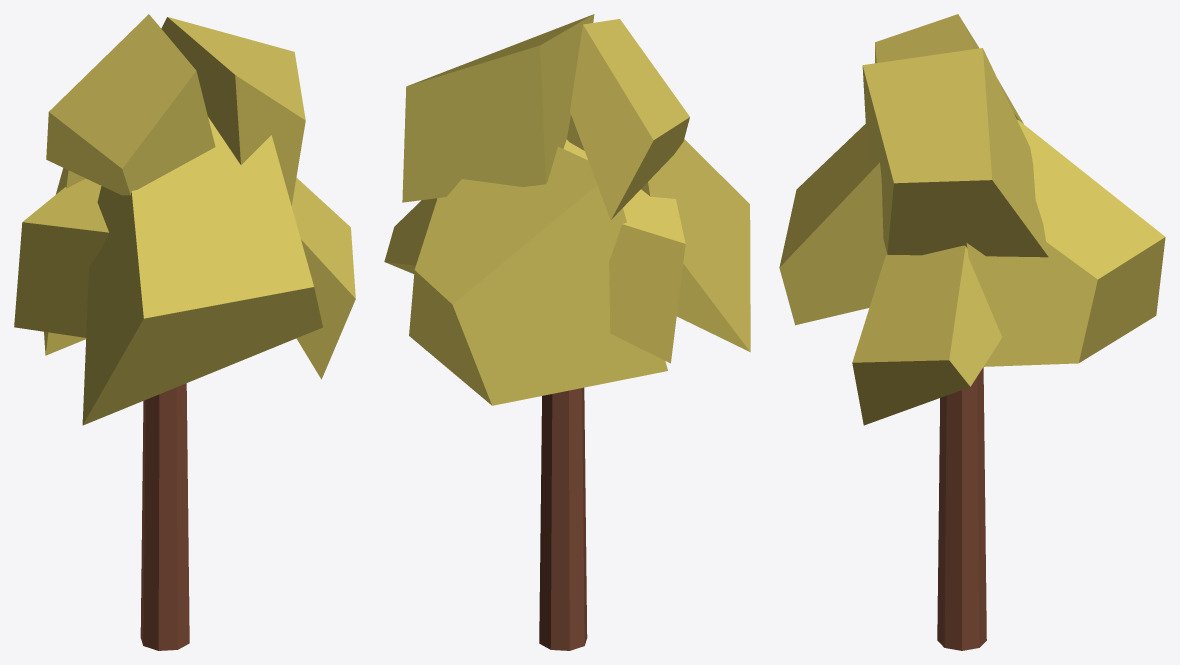
The model's file is Tree_41_autumn_mat.fbx.
3 renders of one model, left to right at view 1: azimuth 30°, elevation 25°; view 2: azimuth 150°, elevation 25°; view 3: azimuth 270°, elevation 25°, orthographic. The views are drawn at different scales.
Parts seen in each view (by area): view 1: Tree_41_autumn_mat; view 2: Tree_41_autumn_mat; view 3: Tree_41_autumn_mat.
Part boxes in pixels (bbox=[...]): Tree_41_autumn_mat: bbox=[14, 14, 355, 650]; Tree_41_autumn_mat: bbox=[384, 14, 750, 650]; Tree_41_autumn_mat: bbox=[779, 14, 1165, 650].
Bounding box in the file's own units: 120 × 229 × 130.
